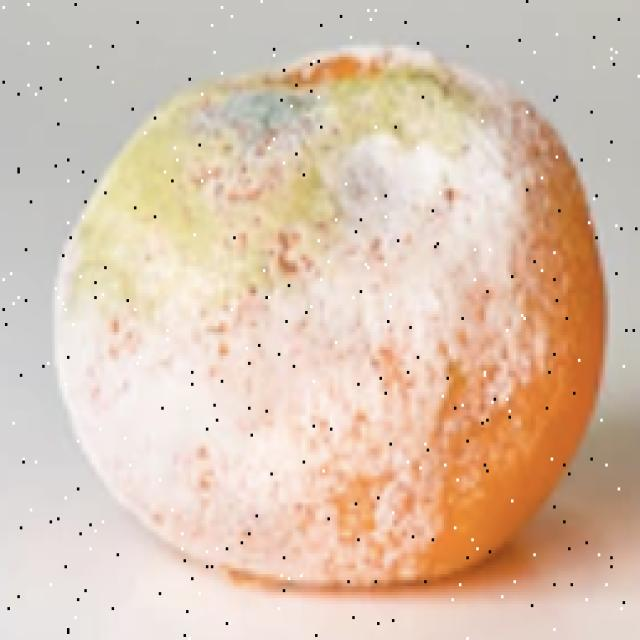Organik: (34, 24, 621, 617)
